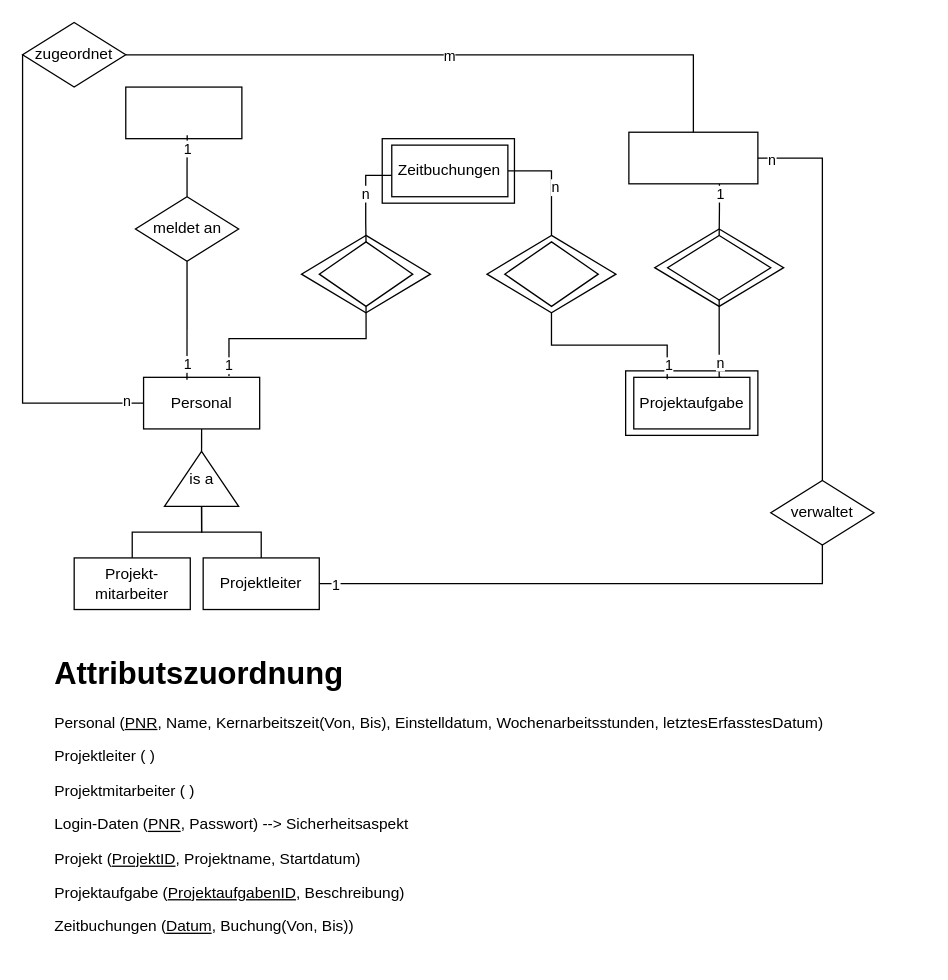
The diagram is 948 pixels wide and 980 high, and some of its shapes have lost their labels. Here are the shapes that lost their labels. From the top down, the centre of each, then its label:
[183,112]: Login-Daten
[693,157]: Projekt
[365,273]: bucht
[550,273]: gehört zu
[718,267]: beinhaltet
